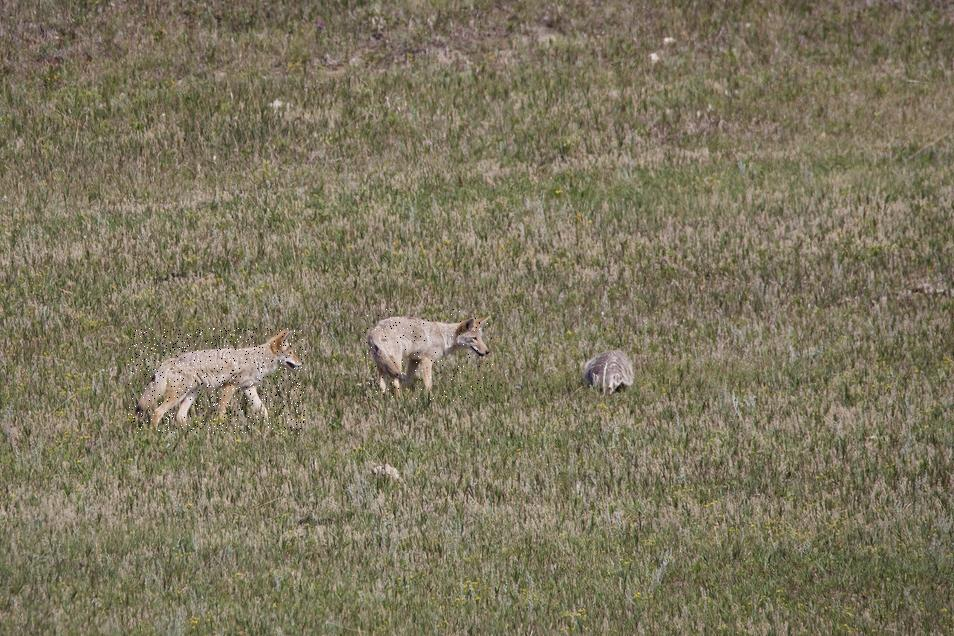Coyote: (128, 328, 306, 434), (363, 309, 494, 401)
